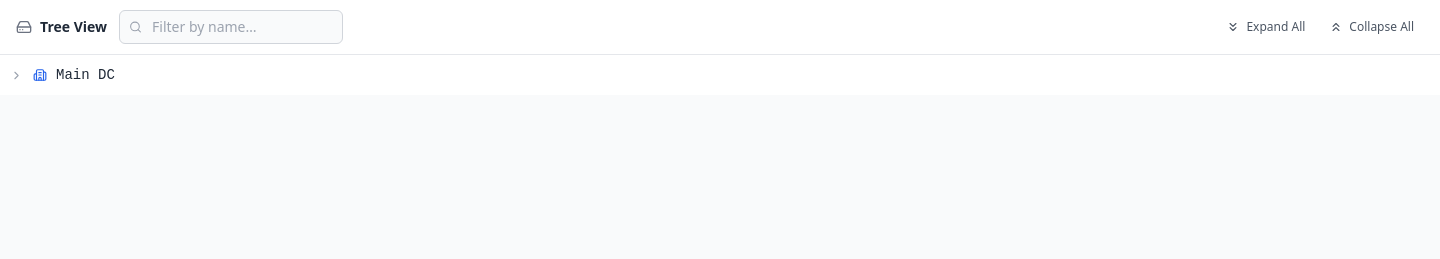
Test: TreeView page › shows 'No interfaces or VMs' when device has none
Expected: the text "Main DC" is shown, [56,67,115,83]
Click the button named "Expand" at (16, 75), box [6,65,26,85]
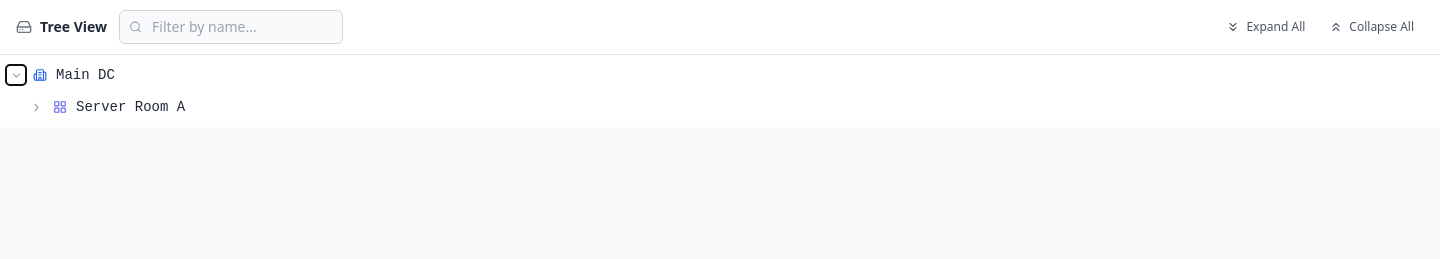
Expected: the text "Server Room A" is shown, [76,99,185,115]
Click the button named "Expand" at (36, 107), box [26,97,46,117]
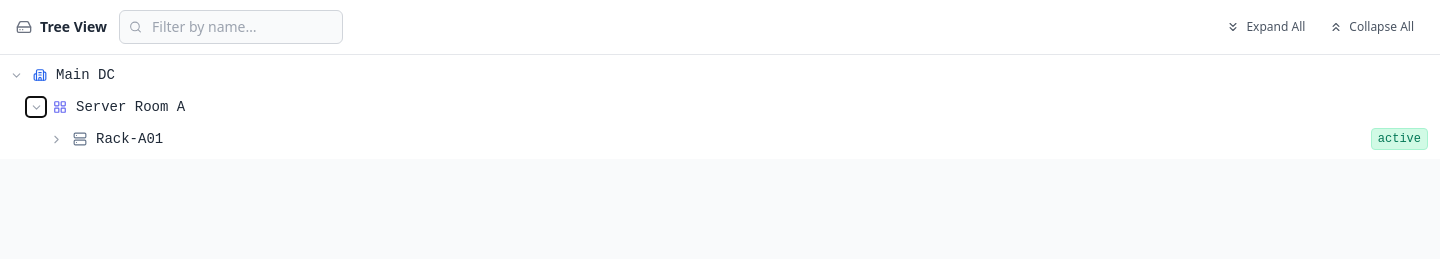
Expected: the text "Rack-A01" is shown, [96,131,163,147]
Click the button named "Expand" at (56, 139), box [46,129,66,149]
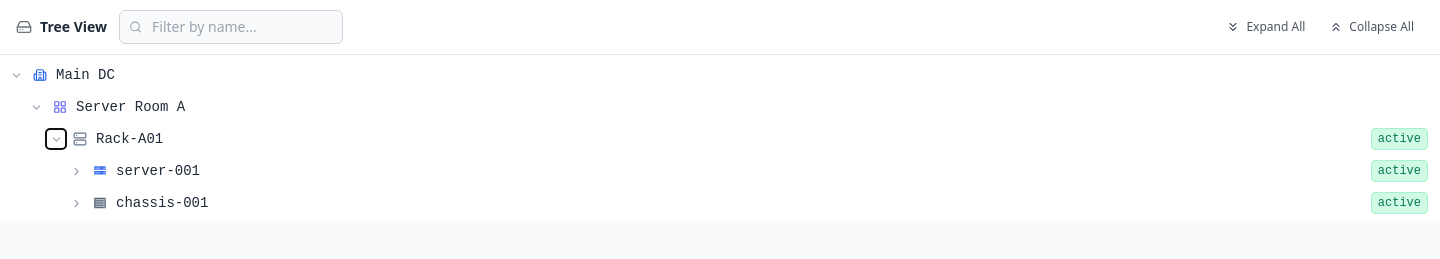
Expected: the text "server-001" is shown, [116,163,200,179]
Click the button named "Expand" next to "server-001" at (76, 171), box [66,161,86,181]
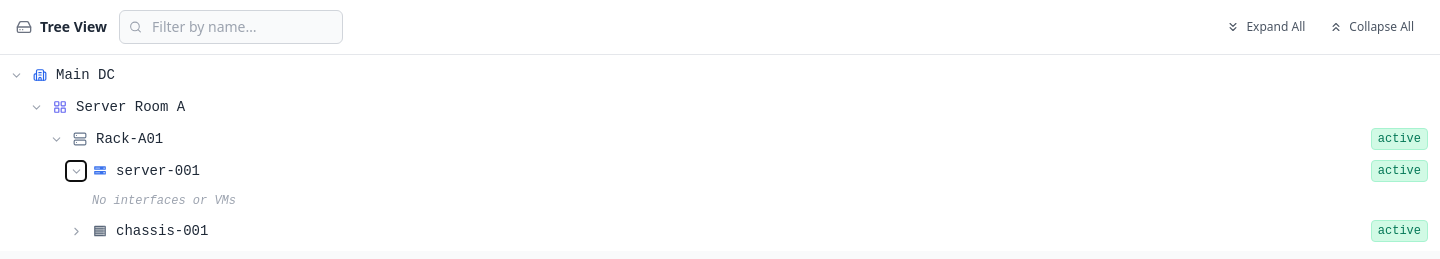
Expected: the text "No interfaces or VMs" is shown, [92,194,236,208]
